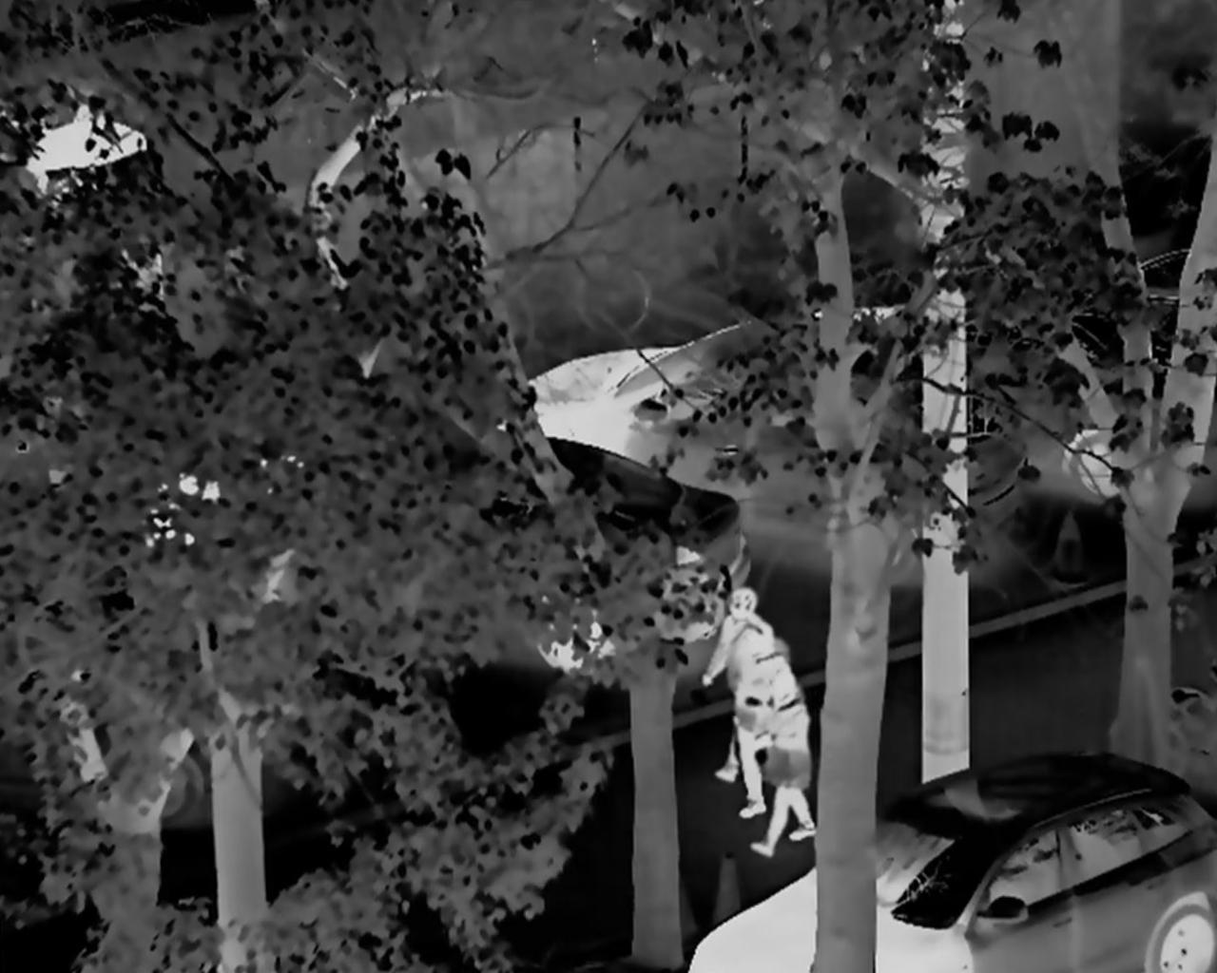person: (711, 582, 777, 811), (743, 637, 809, 854)
